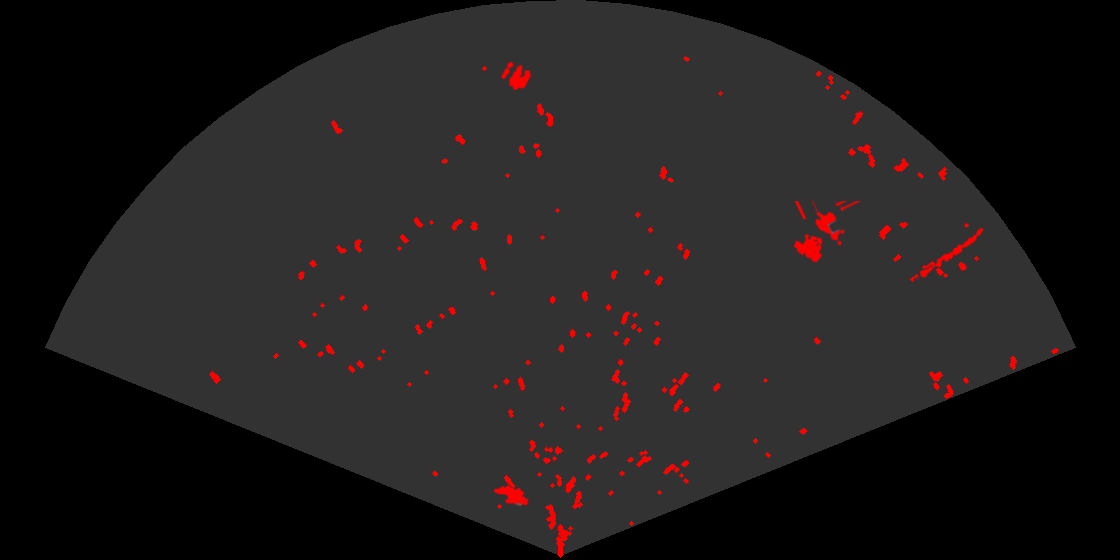AUV: (492, 484, 530, 507)
ball: (499, 60, 533, 92)
cage: (792, 201, 862, 264)
chain: (913, 226, 985, 284)
